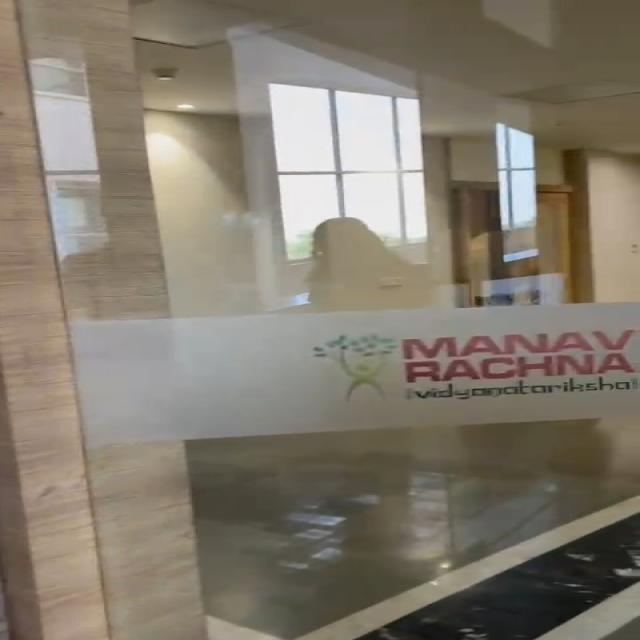door: (6, 15, 579, 640)
